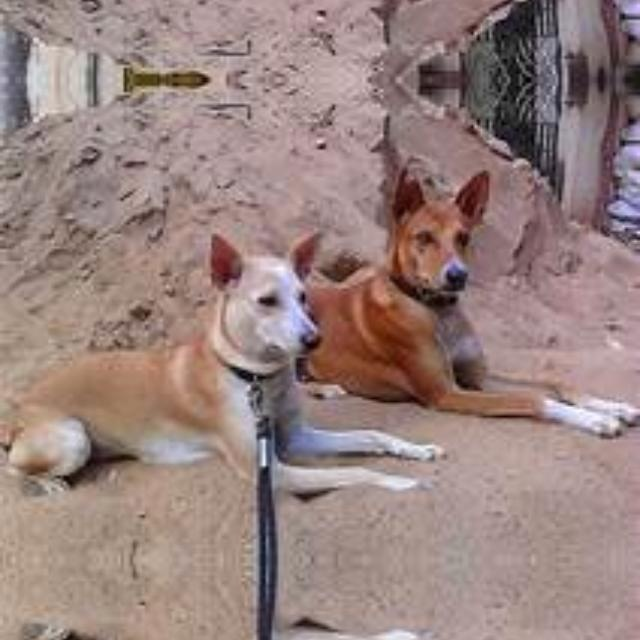dog: (0, 231, 402, 519), (318, 169, 640, 437), (0, 599, 402, 640)
